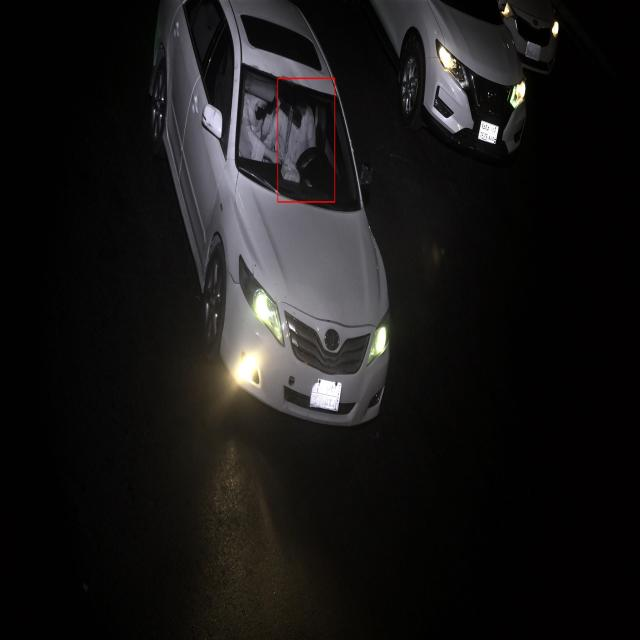windshield: (228, 60, 365, 218)
